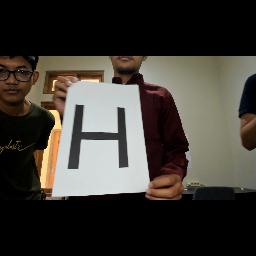h: (64, 104, 136, 170)
